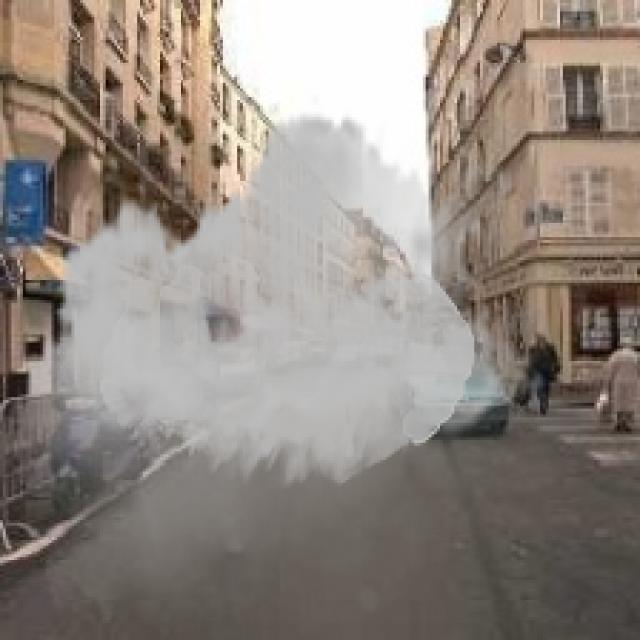Smoke: (14, 92, 549, 638)
